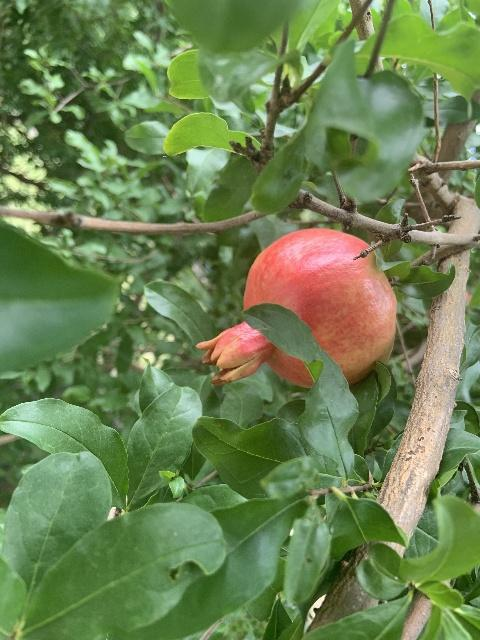ripe: (196, 226, 397, 391)
